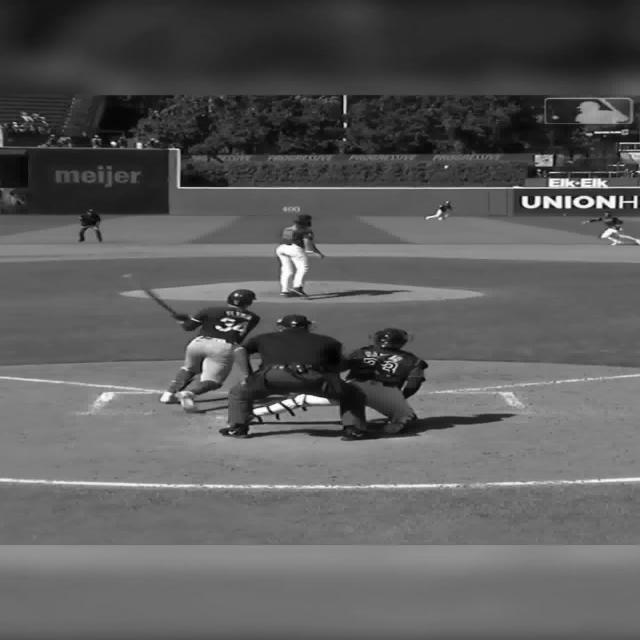baseball: (444, 165, 448, 169)
bat: (123, 273, 177, 316)
shoe: (381, 413, 416, 434), (218, 423, 249, 438), (175, 390, 195, 410), (340, 426, 367, 440), (380, 421, 406, 434), (159, 391, 178, 404), (289, 286, 307, 296), (279, 291, 290, 296)
